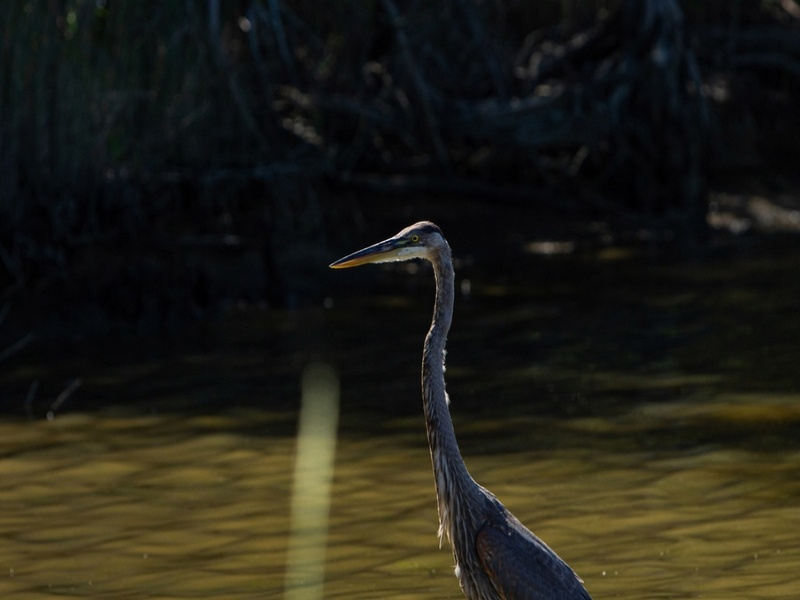heron: (329, 212, 624, 600)
